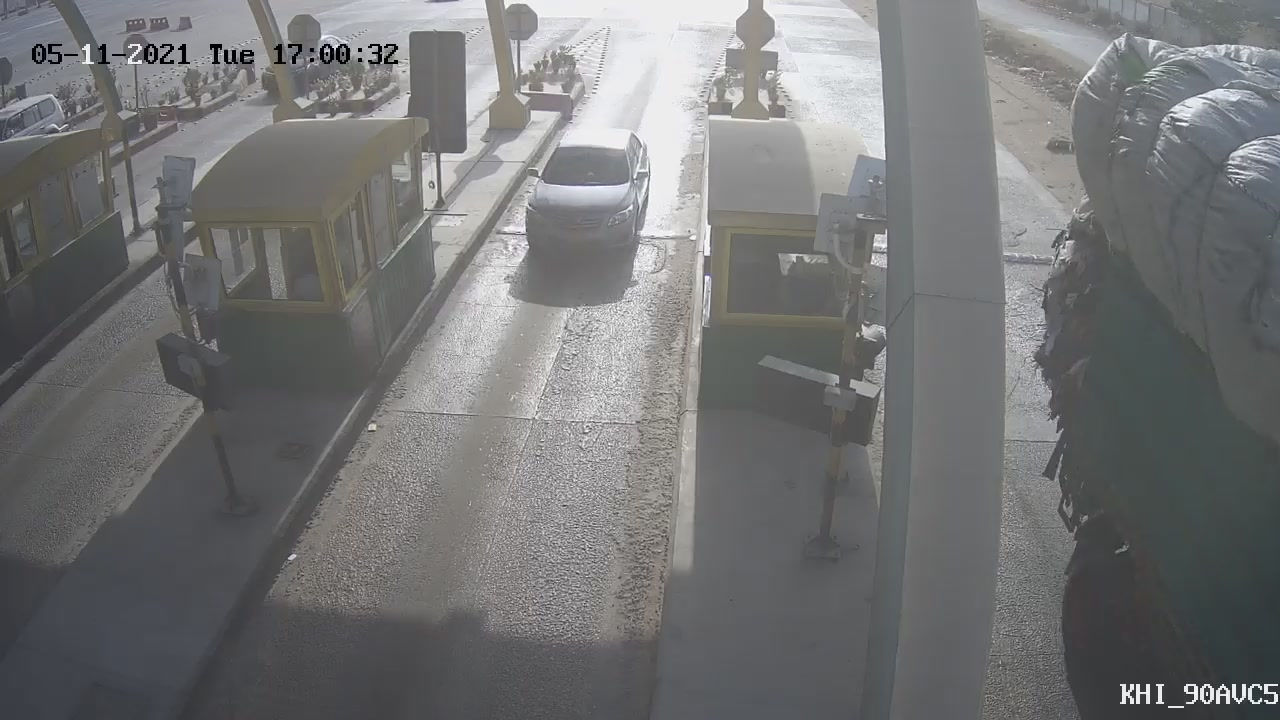F1: (498, 109, 669, 286)
